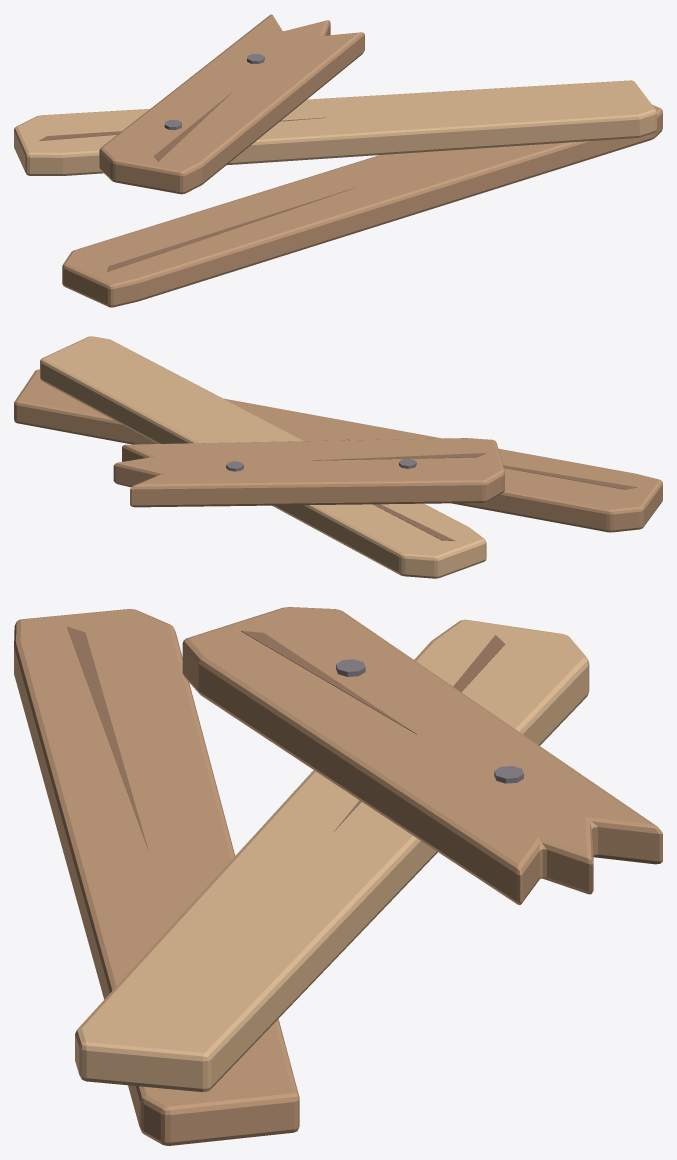
File: Kit_GroundPlanks.fbx
3 views of the same model, one above another, from view 1: azimuth 30°, elevation 25°; view 2: azimuth 150°, elevation 25°; view 3: azimuth 270°, elevation 25° (orthographic). The views are drawn at different scales.
Visible parts, largest first — view 1: Kit_GroundPlanks; view 2: Kit_GroundPlanks; view 3: Kit_GroundPlanks.
Boxes of the visible parts, left/top/right/bottom form: Kit_GroundPlanks: left=14, top=14, right=662, bottom=307; Kit_GroundPlanks: left=14, top=336, right=662, bottom=578; Kit_GroundPlanks: left=14, top=607, right=662, bottom=1145.
Size of the model in its own units: 2.2 by 0.254 by 1.2.
